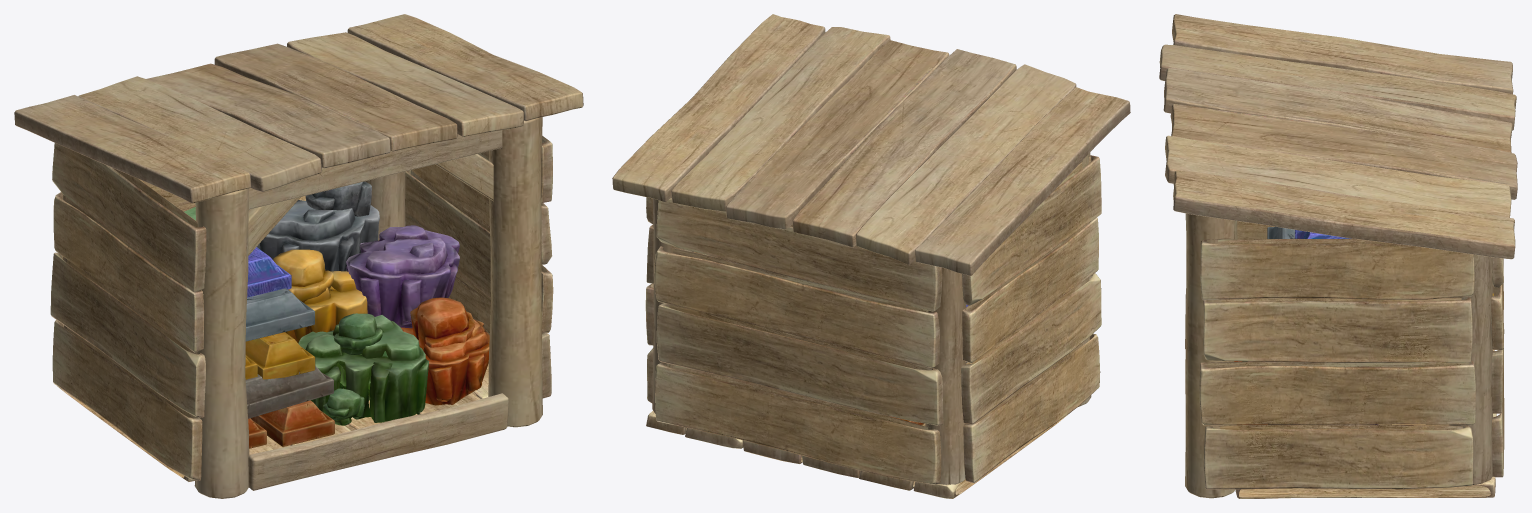
3 renders of one model, left to right at view 1: azimuth 30°, elevation 25°; view 2: azimuth 150°, elevation 25°; view 3: azimuth 270°, elevation 25°, orthographic. The views are drawn at different scales.
Visible parts, largest first — view 1: SM_Ore_Storage_LOD0; view 2: SM_Ore_Storage_LOD0; view 3: SM_Ore_Storage_LOD0.
Part boxes in pixels (x1=…): SM_Ore_Storage_LOD0: x1=14, y1=14, x2=583, y2=498; SM_Ore_Storage_LOD0: x1=612, y1=14, x2=1130, y2=498; SM_Ore_Storage_LOD0: x1=1159, y1=14, x2=1517, y2=498.
Size of the model in its own units: 1.83 by 1.48 by 1.5.
Materials: 3 (3 with a texture image).
